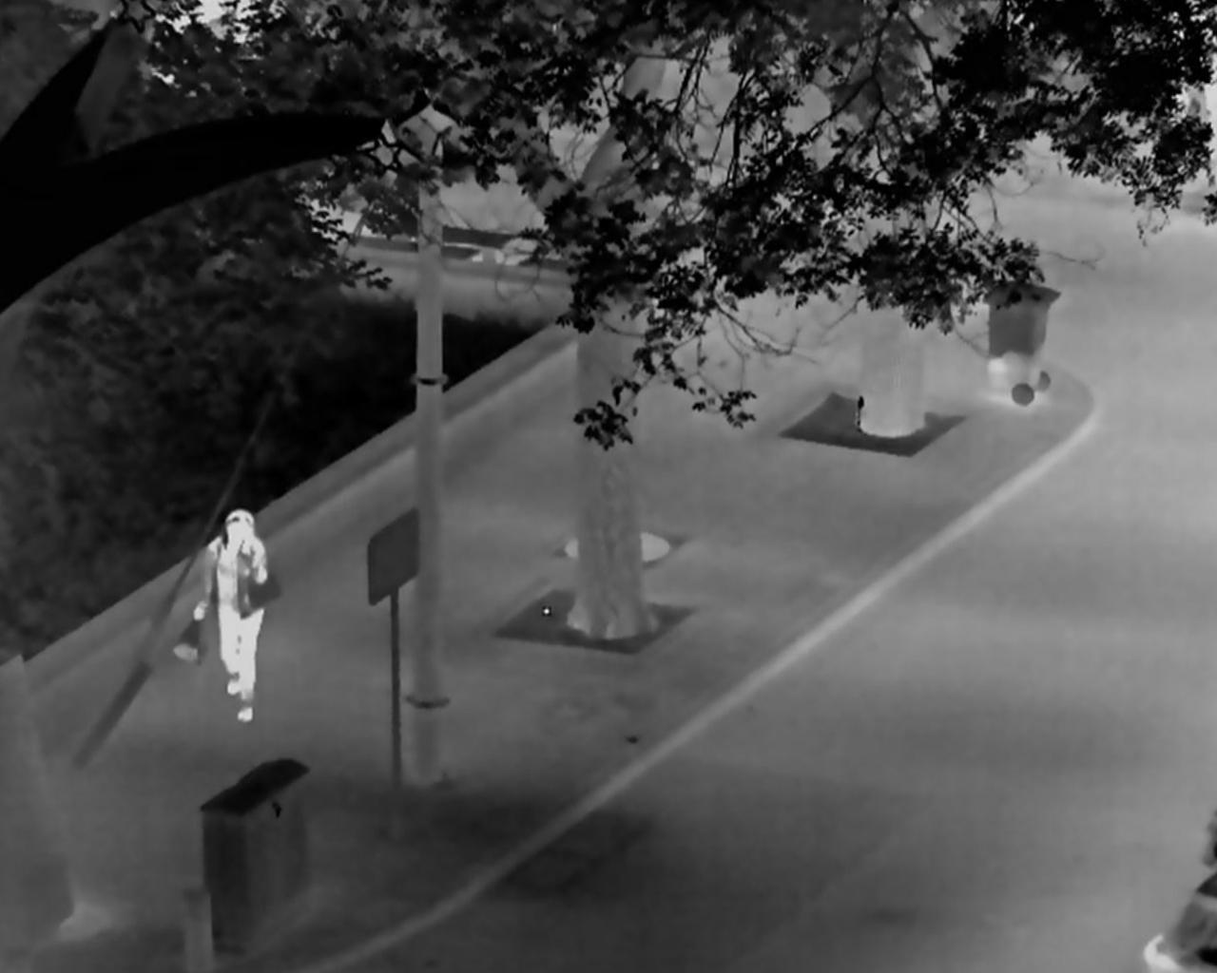person: (192, 506, 267, 723)
